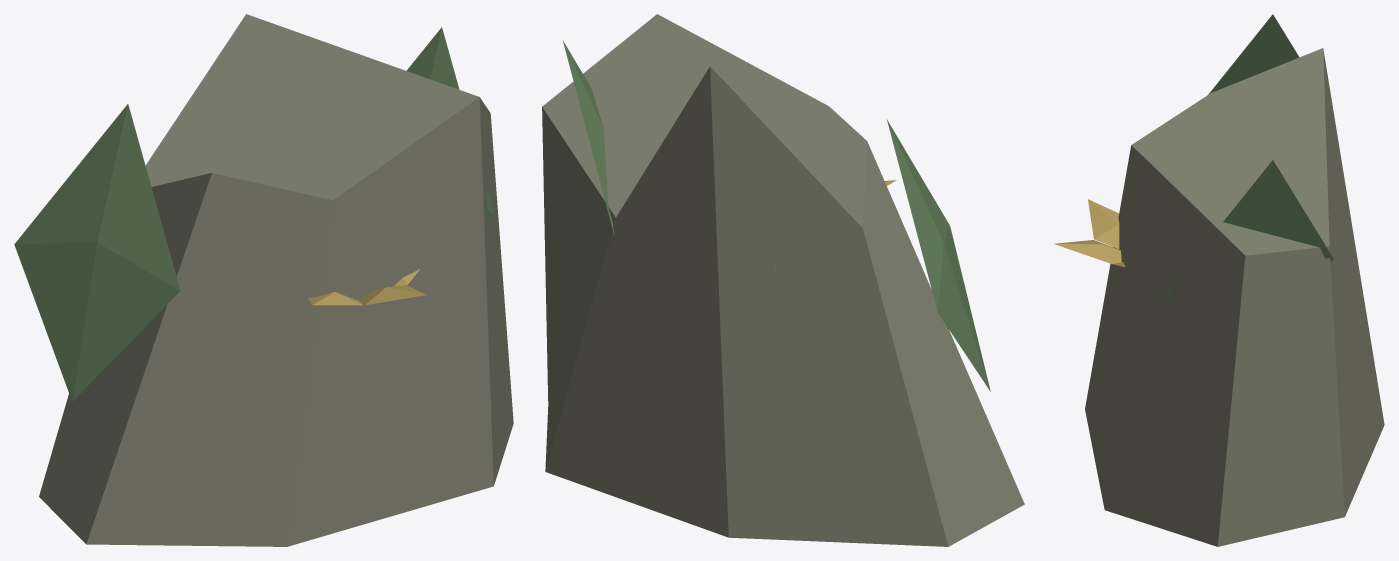
File: map-boundaries-v5__champion_11.glb
3 renders of one model, left to right at view 1: azimuth 30°, elevation 25°; view 2: azimuth 150°, elevation 25°; view 3: azimuth 270°, elevation 25°, orthographic. The views are drawn at different scales.
Parts seen in each view (by area): view 1: champion_11; view 2: champion_11; view 3: champion_11.
Boxes of the visible parts, x1=… form: champion_11: x1=14, y1=14, x2=513, y2=546; champion_11: x1=542, y1=14, x2=1024, y2=546; champion_11: x1=1054, y1=14, x2=1384, y2=546.
Size of the model in its own units: 1.13 by 1.03 by 0.7683.
